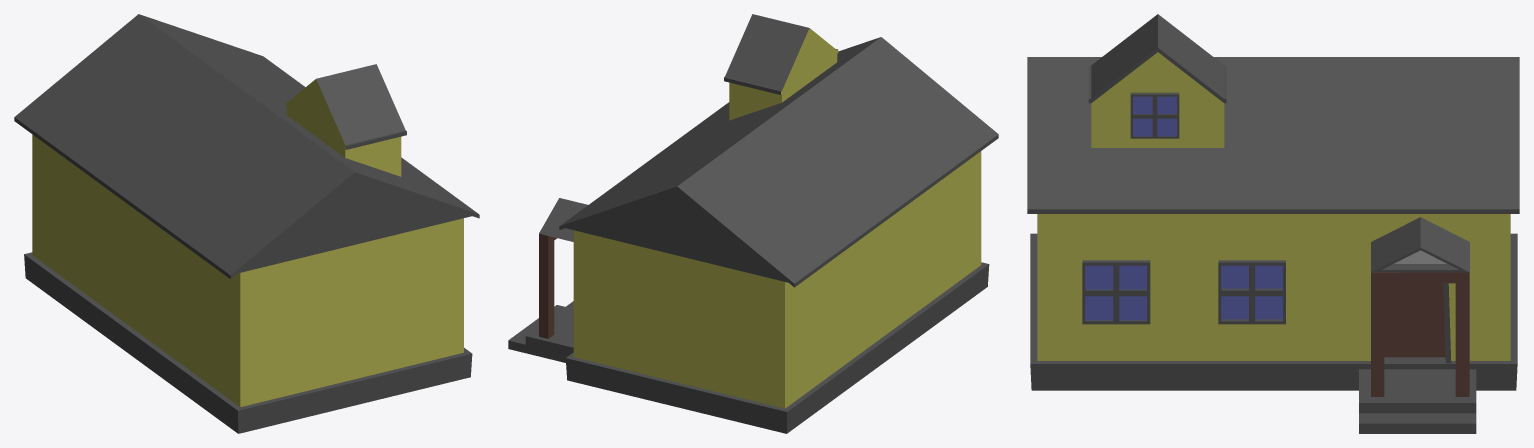
The model's file is House1.fbx.
3 renders of one model, left to right at view 1: azimuth 30°, elevation 25°; view 2: azimuth 150°, elevation 25°; view 3: azimuth 270°, elevation 25°, orthographic. The views are drawn at different scales.
Visible parts, largest first — view 1: House, Roof, Rooftop; view 2: House, Roof, Rooftop, Steps, Pillar, Prop; view 3: House, Roof, Rooftop, Steps, Pillar, Window, Prop, Plane, window, Plane.001, Roofwindow.
Part boxes in pixels (x1,y1,x2,y2): House: (24,134,472,433); Roof: (14,14,479,279); Rooftop: (286,64,406,176); House: (565,151,989,433); Roof: (559,37,998,287); Rooftop: (724,14,838,120); Steps: (508,301,573,362); Pillar: (539,234,556,338); Prop: (539,198,587,241); House: (1030,214,1517,390); Roof: (1027,57,1519,213); Rooftop: (1088,14,1226,147); Steps: (1359,369,1476,433); Pillar: (1371,272,1469,396); Window: (1218,260,1285,324); Prop: (1371,217,1469,272); Plane: (1085,265,1146,320); window: (1082,260,1150,324); Plane.001: (1133,96,1176,136); Roofwindow: (1130,92,1179,138).
Bounding box in the file's own units: 1250 × 1046 × 1454.
